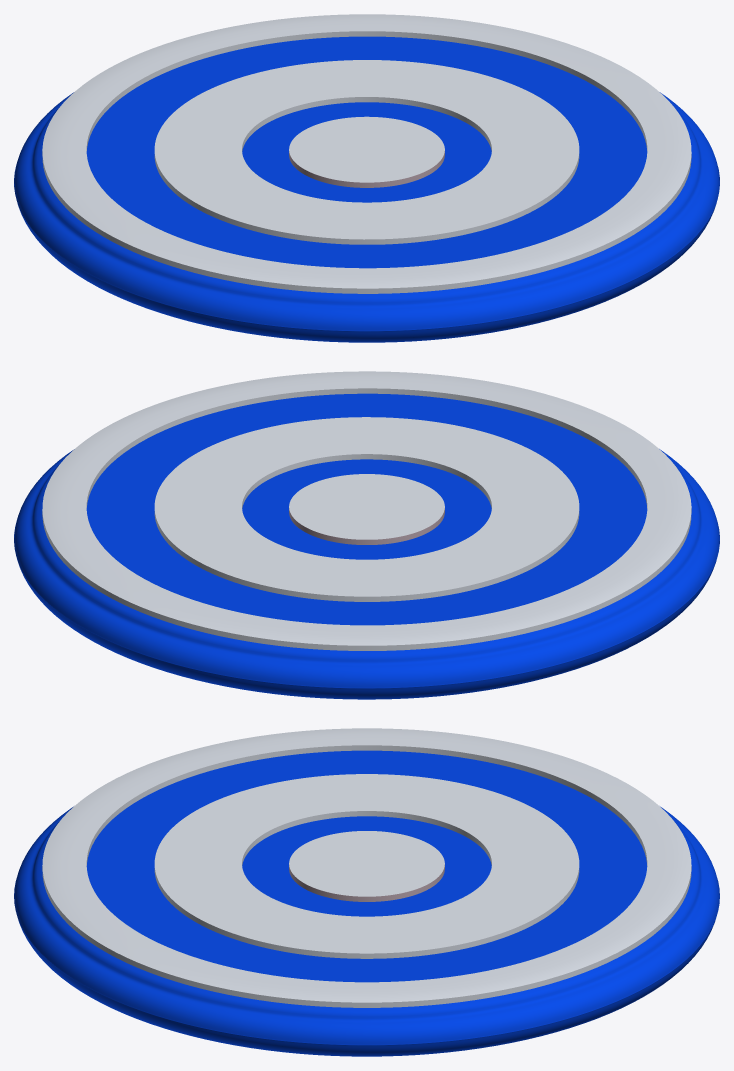
Rendered from Flying Top.fbx.
3 renders of one model, top to bottom at view 1: azimuth 30°, elevation 25°; view 2: azimuth 150°, elevation 25°; view 3: azimuth 270°, elevation 25°, orthographic.
Visible parts, largest first — view 1: Circle, Circle.002, Circle.003, Circle.001; view 2: Circle, Circle.002, Circle.003, Circle.001; view 3: Circle, Circle.002, Circle.003, Circle.001.
Boxes of the visible parts, x1=… form: Circle: x1=14, y1=36, x2=719, y2=342; Circle.002: x1=154, y1=60, x2=579, y2=244; Circle.003: x1=42, y1=14, x2=691, y2=293; Circle.001: x1=289, y1=116, x2=444, y2=187; Circle: x1=14, y1=393, x2=719, y2=699; Circle.002: x1=154, y1=417, x2=579, y2=601; Circle.003: x1=42, y1=371, x2=691, y2=650; Circle.001: x1=289, y1=474, x2=444, y2=544; Circle: x1=14, y1=750, x2=719, y2=1056; Circle.002: x1=154, y1=774, x2=579, y2=958; Circle.003: x1=42, y1=728, x2=691, y2=1007; Circle.001: x1=289, y1=831, x2=444, y2=901.
Size of the model in its own units: 568 by 61.88 by 568.
